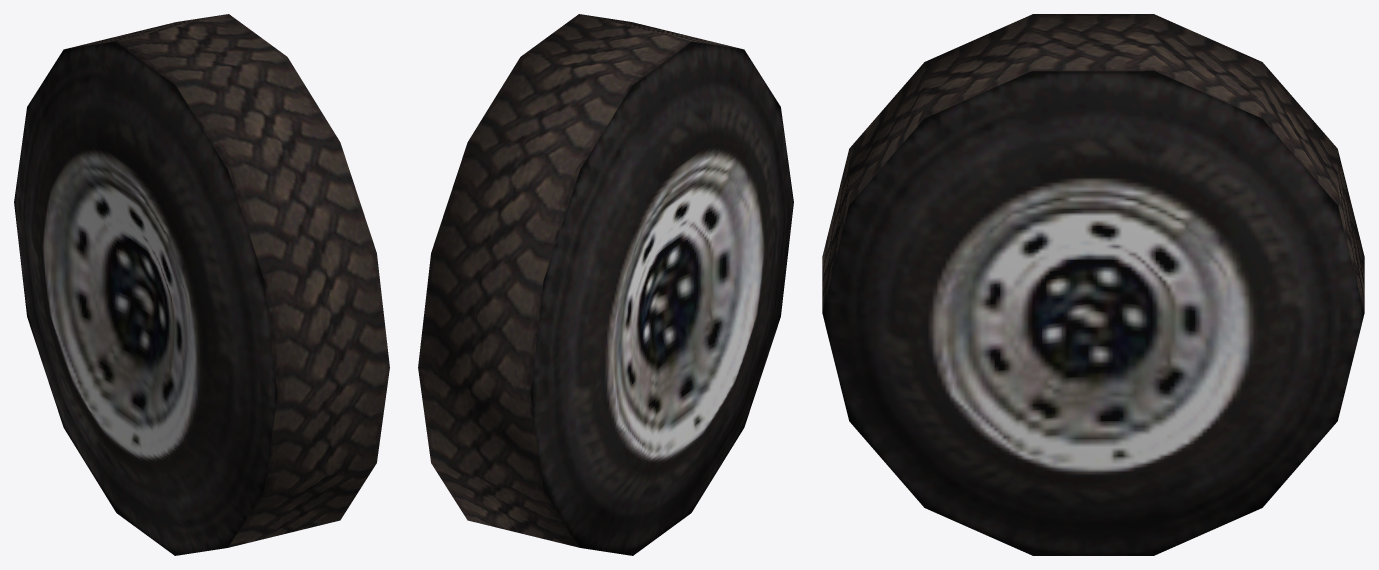
The model's file is browning_wheel.obj.
3 views of the same model, side by side, from view 1: azimuth 30°, elevation 25°; view 2: azimuth 150°, elevation 25°; view 3: azimuth 270°, elevation 25° (orthographic). The views are drawn at different scales.
Visible parts, largest first — view 1: DrawCall_7; view 2: DrawCall_7; view 3: DrawCall_7.
Boxes of the visible parts, x1,y1,x2,y2 form: DrawCall_7: [14, 14, 389, 555]; DrawCall_7: [418, 14, 793, 555]; DrawCall_7: [822, 14, 1364, 555].
Size of the model in its own units: 0.72 by 2 by 2.02.
Materials: 2 (2 with a texture image).
